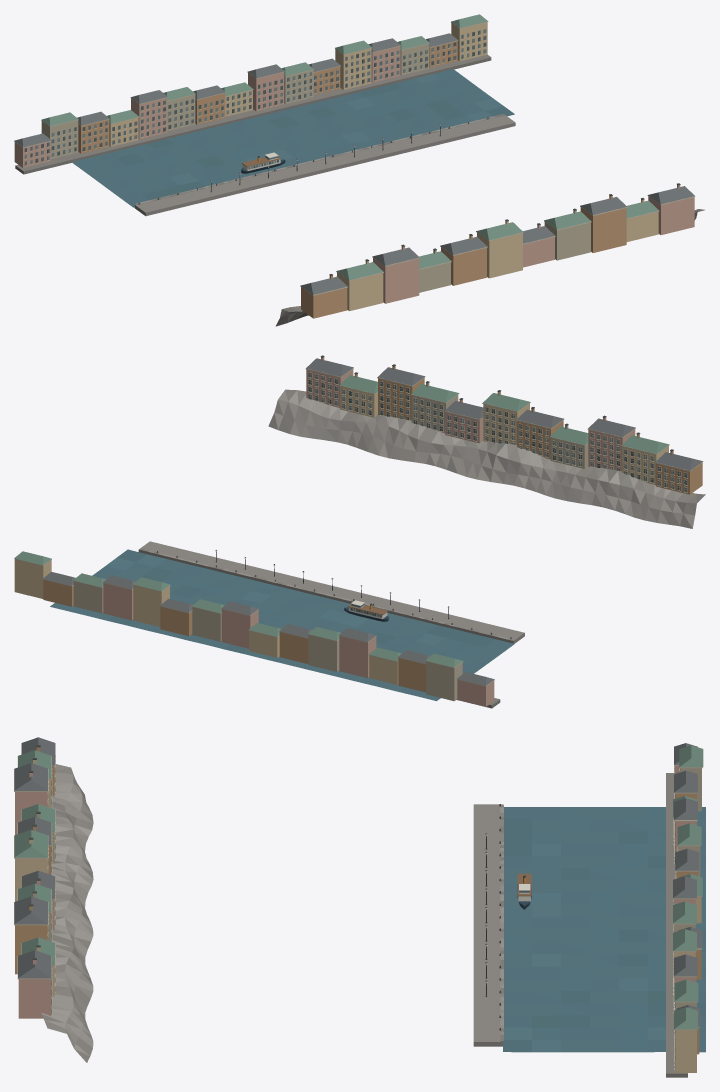
File: stadsgarden.glb
3 views of the same model, one above another, from view 1: azimuth 30°, elevation 25°; view 2: azimuth 150°, elevation 25°; view 3: azimuth 270°, elevation 25° (orthographic). The views are drawn at different scales.
Visible parts, largest first — view 1: Stadsgårdens kajmiljö.001; view 2: Stadsgårdens kajmiljö.001; view 3: Stadsgårdens kajmiljö.001.
Boxes of the visible parts, bbox=[...] form: Stadsgårdens kajmiljö.001: bbox=[14, 14, 704, 326]; Stadsgårdens kajmiljö.001: bbox=[14, 355, 705, 708]; Stadsgårdens kajmiljö.001: bbox=[14, 737, 705, 1077].
Bounding box in the file's own units: 196 × 28.84 × 191.
